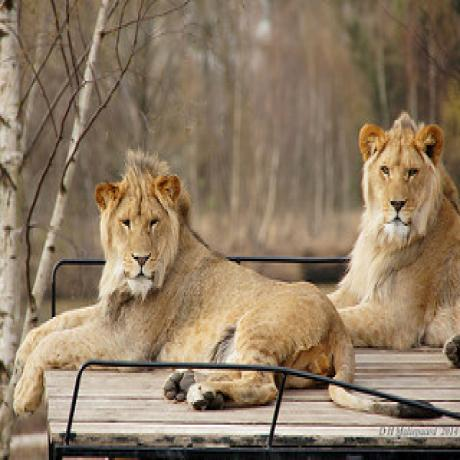Lion: (13, 144, 349, 432), (12, 144, 353, 419), (333, 99, 460, 362)
